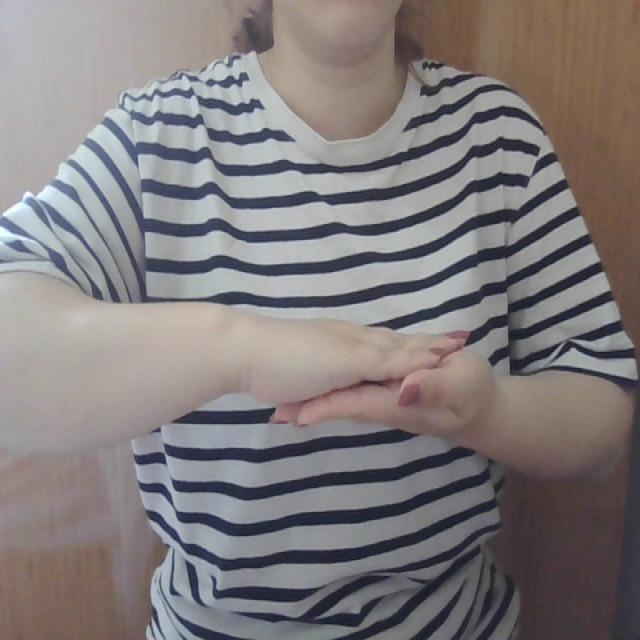Arkadas: (196, 302, 543, 452)
